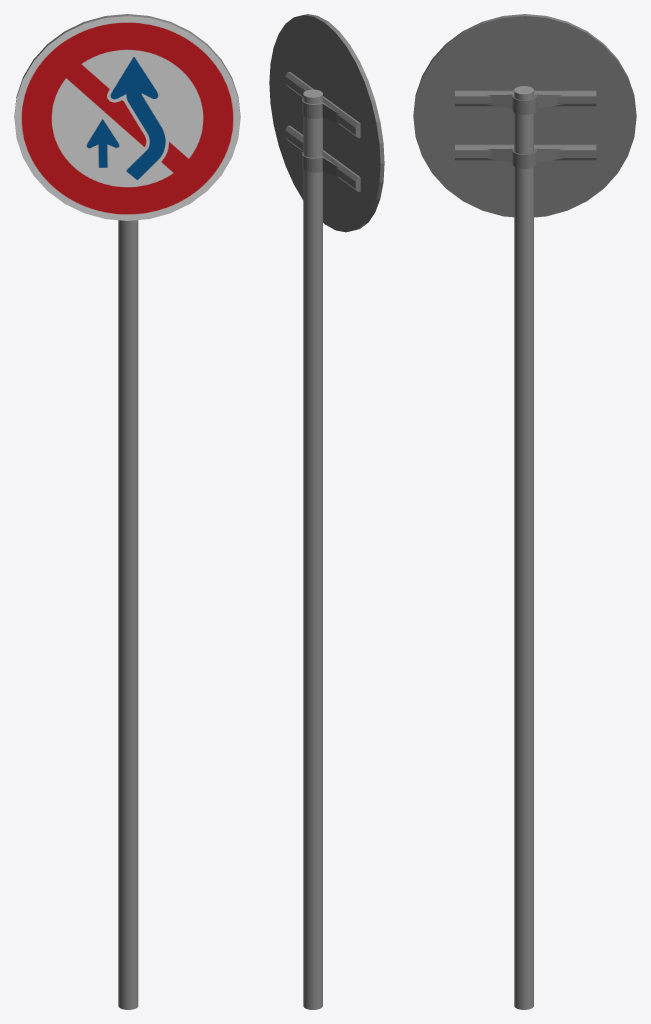
3 renders of one model, left to right at view 1: azimuth 90°, elevation 25°; view 2: azimuth 210°, elevation 25°; view 3: azimuth 270°, elevation 25°, orthographic.
Parts seen in each view (by area): view 1: 030, Prop; view 2: Prop, 030; view 3: 030, Prop.
Part boxes in pixels (box(x1,y1,x2,y2)): 030: box(14, 14, 240, 220); Prop: box(118, 220, 138, 1009); Prop: box(285, 72, 360, 1009); 030: box(269, 14, 384, 232); 030: box(413, 14, 636, 217); Prop: box(455, 86, 596, 1009).
Bounding box in the file's own units: 6.76 × 253 × 52.01.
